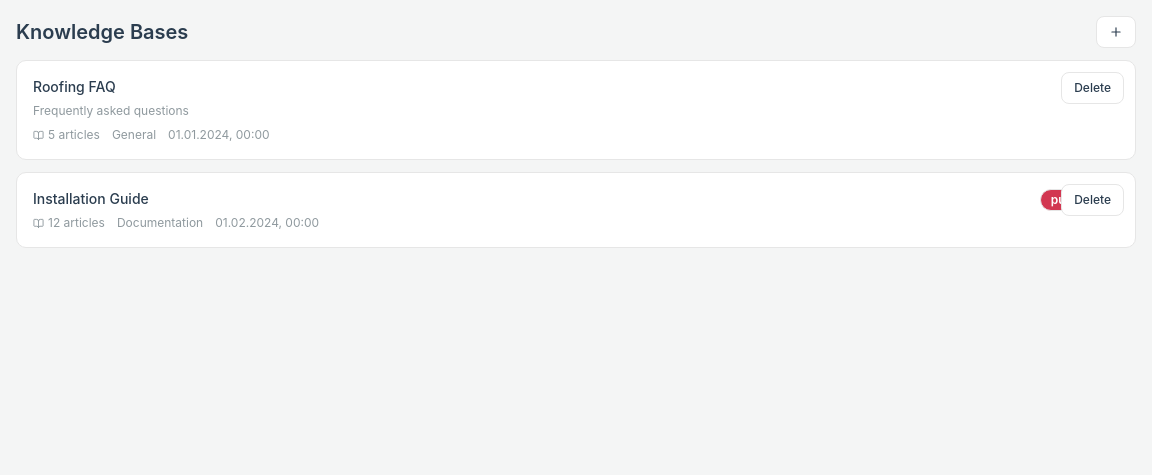
it: MobileKnowledgeBases › create form toggles open when create button is clicked
Click the button with test id "mobile-kb-create-button": (1116, 32) [1096,16,1136,48]
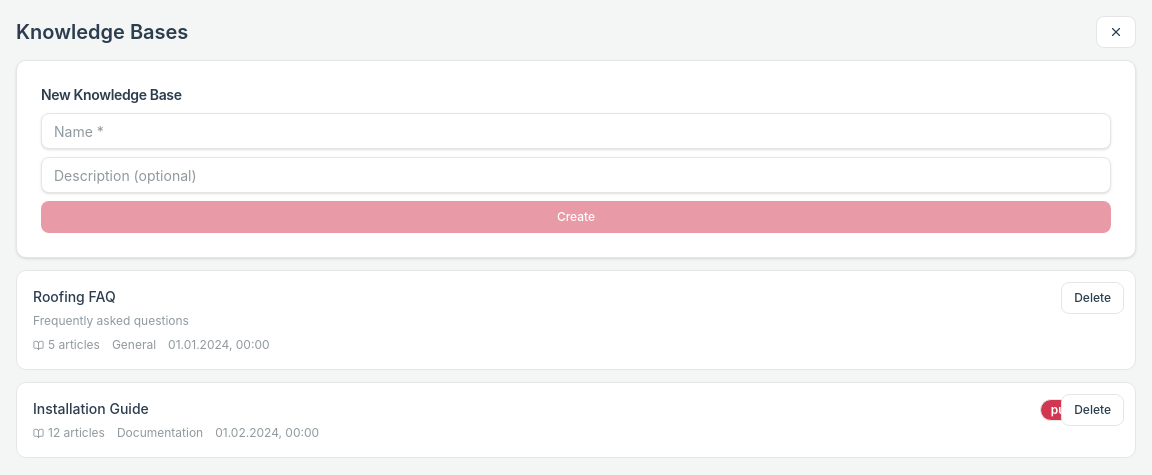
Check: the element with test id "mobile-kb-create-form" is shown, box [16,60,1136,258]
